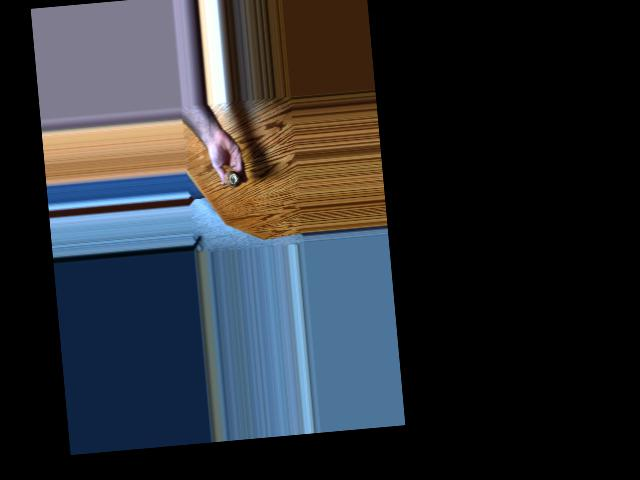sweet_potato: (221, 169, 240, 192)
